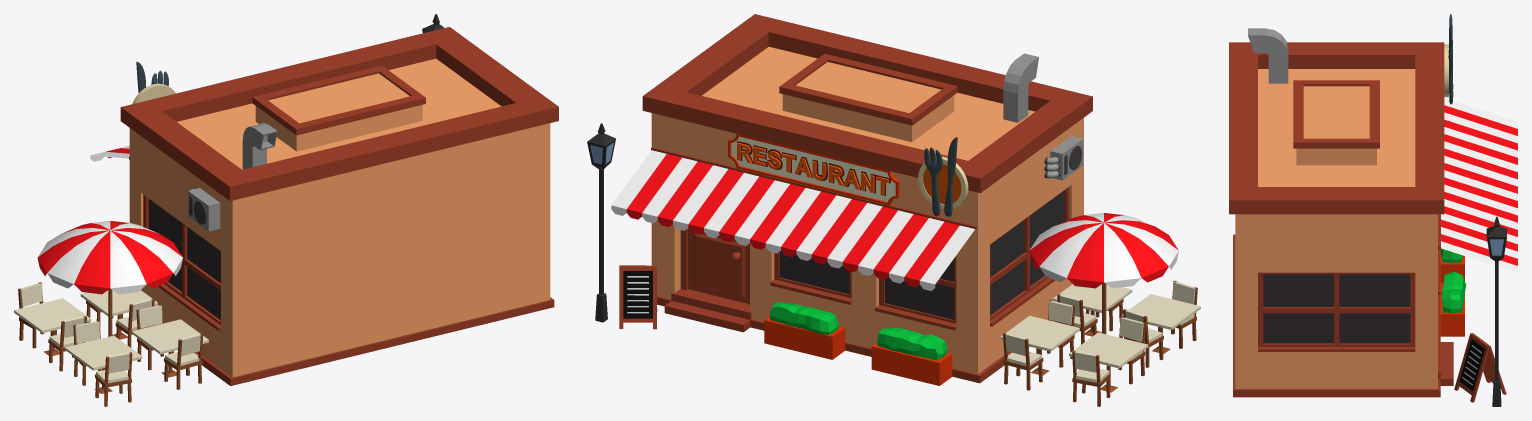
Rendered from restaurant.obj.
3 views of the same model, side by side, from view 1: azimuth 30°, elevation 25°; view 2: azimuth 150°, elevation 25°; view 3: azimuth 270°, elevation 25° (orthographic). The views are drawn at different scales.
Parts seen in each view (by area): view 1: restaurant:RestaurantBuilding pasted__group3 group, pasted__group3 group restaurant:RestaurantTables; view 2: restaurant:RestaurantBuilding pasted__group3 group, pasted__group3 group restaurant:RestaurantTables, pasted__group3 group restaurant:RestaurantPlants, pasted__group3 group restaurant:RestaurantBoard, pasted__group3 group restaurant:RestaurantLight; view 3: restaurant:RestaurantBuilding pasted__group3 group, pasted__group3 group restaurant:RestaurantPlants, pasted__group3 group restaurant:RestaurantBoard, pasted__group3 group restaurant:RestaurantLight.
Boxes of the visible parts, x1,y1,x2,y2 form: restaurant:RestaurantBuilding pasted__group3 group: [90, 27, 558, 385]; pasted__group3 group restaurant:RestaurantTables: [14, 220, 208, 406]; restaurant:RestaurantBuilding pasted__group3 group: [611, 14, 1092, 383]; pasted__group3 group restaurant:RestaurantTables: [1000, 213, 1200, 406]; pasted__group3 group restaurant:RestaurantPlants: [764, 302, 952, 385]; pasted__group3 group restaurant:RestaurantBoard: [619, 265, 657, 329]; pasted__group3 group restaurant:RestaurantLight: [587, 123, 615, 322]; restaurant:RestaurantBuilding pasted__group3 group: [1229, 14, 1517, 397]; pasted__group3 group restaurant:RestaurantPlants: [1440, 248, 1466, 336]; pasted__group3 group restaurant:RestaurantBoard: [1454, 333, 1506, 402]; pasted__group3 group restaurant:RestaurantLight: [1486, 216, 1506, 406].
Size of the model in its own units: 53.76 by 25.67 by 28.47.
Materials: 1 (1 with a texture image).
